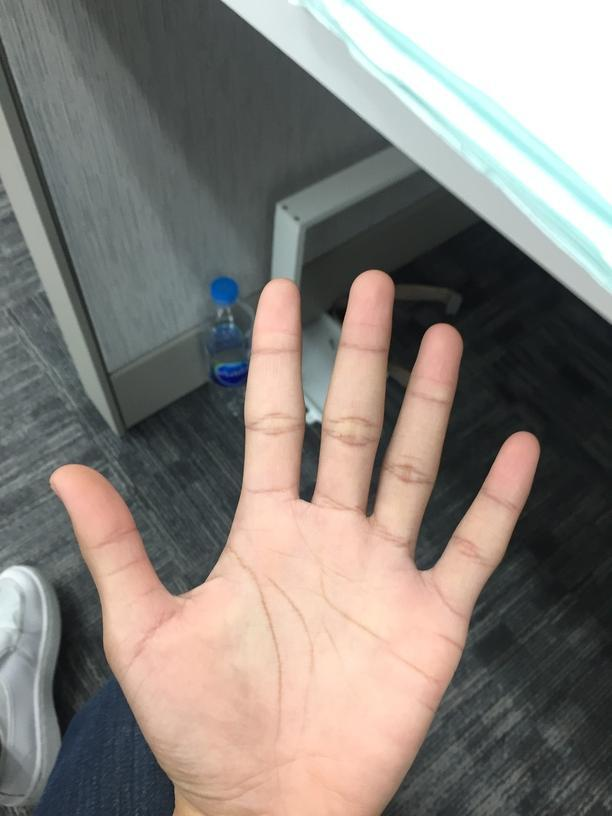hand: (47, 267, 543, 816)
